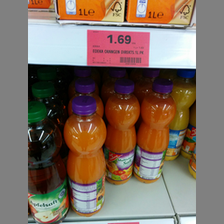juice: (28, 101, 72, 224), (63, 95, 105, 216), (134, 77, 176, 183), (103, 80, 141, 184)
